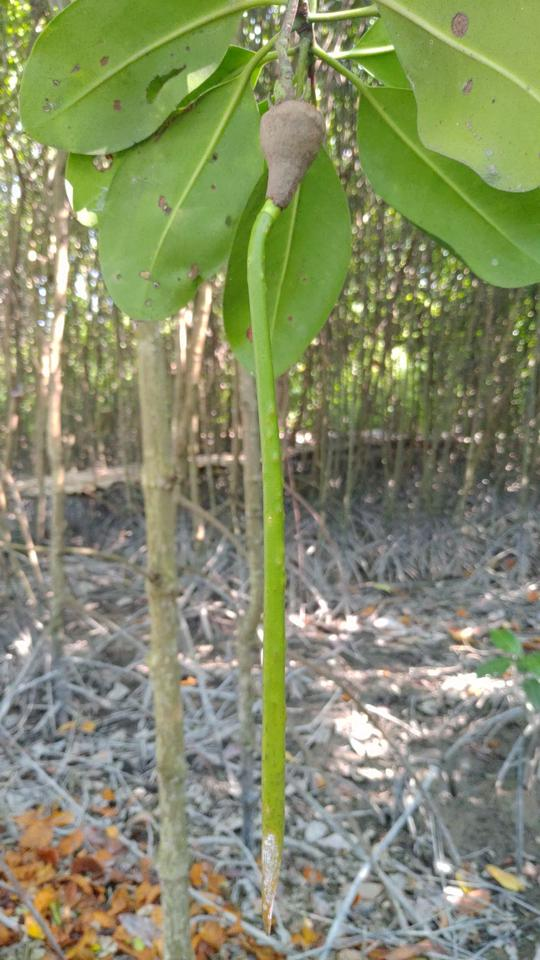setengah matang: (235, 70, 335, 938)
